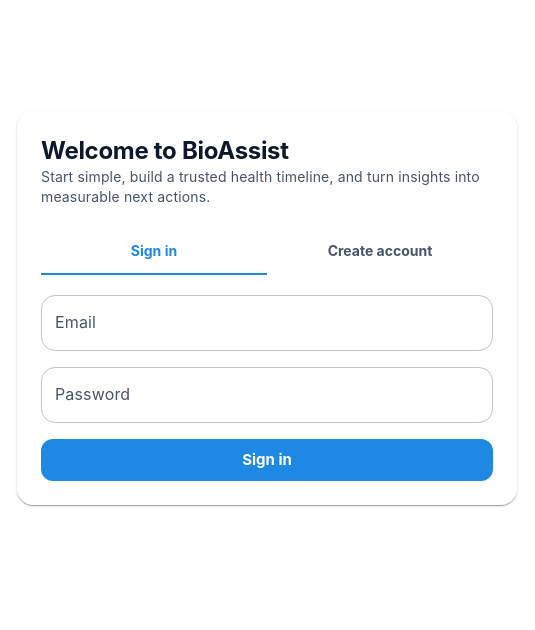
Scenario: LoginPage › shows validation on signup password mismatch
Step 1. Click the tab "Create account" → click(380, 251), box 267,227 -> 493,275
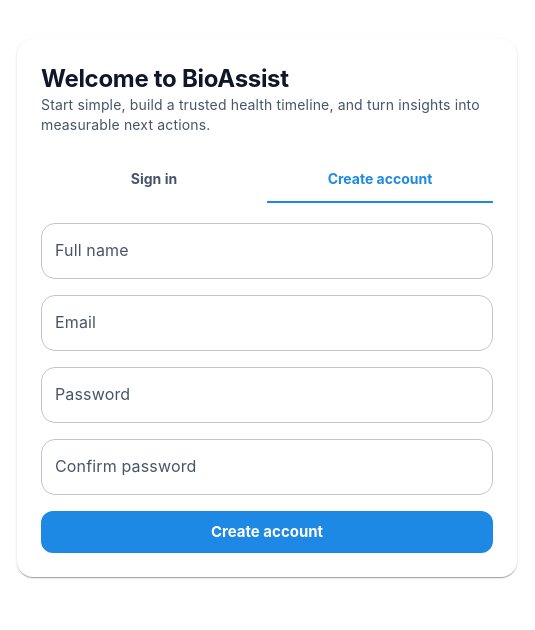
Step 2. Type "Andy" into the field labelled "Full name" → (267, 251), box 41,223 -> 493,279
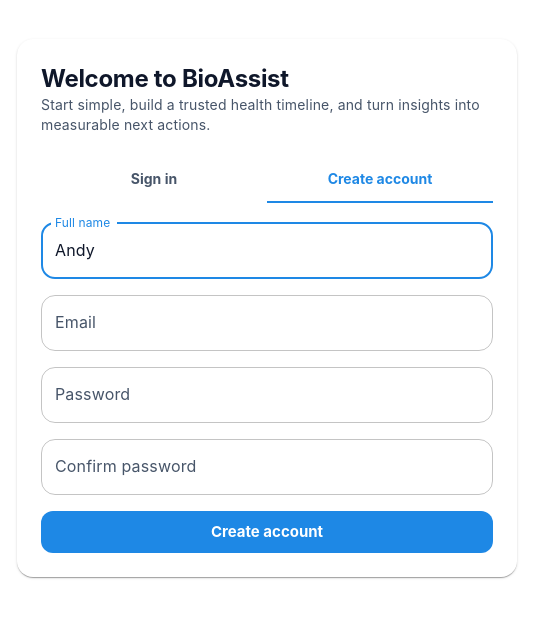
Step 3. Type "andy@example.com" into the field labelled "Email" → (267, 323), box 41,295 -> 493,351
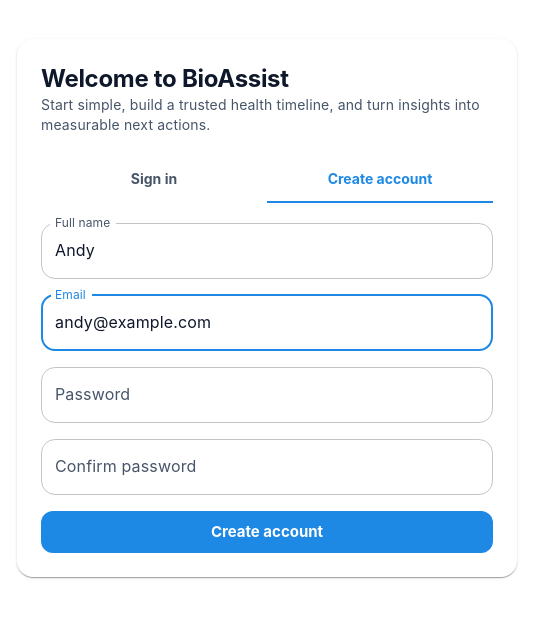
Step 4. Type "password123" into the password field labelled "Password" → (267, 395), box 41,367 -> 493,423
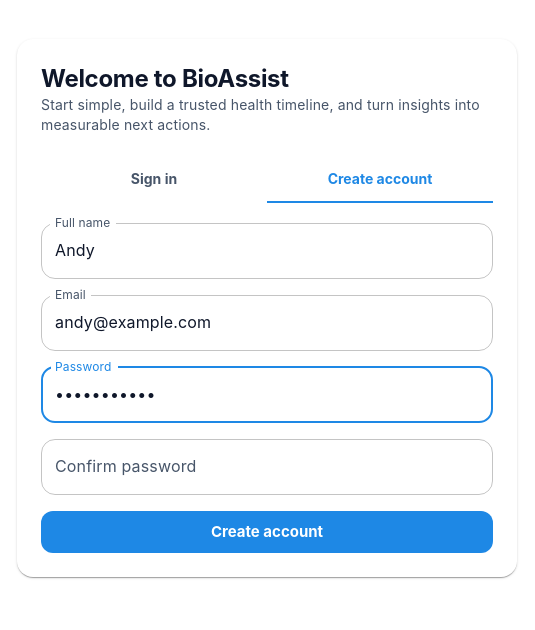
Step 5. Type "password999" into the password field labelled "Confirm password" → (267, 467), box 41,439 -> 493,495
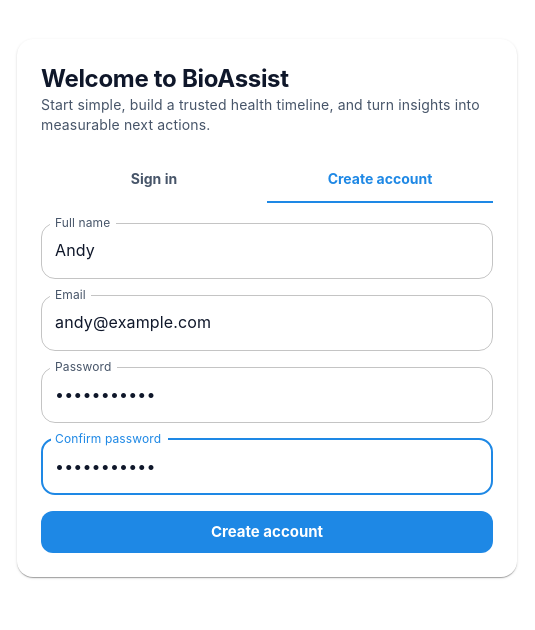
Step 6. Click the button "Create account" → click(267, 532), box 41,511 -> 493,553
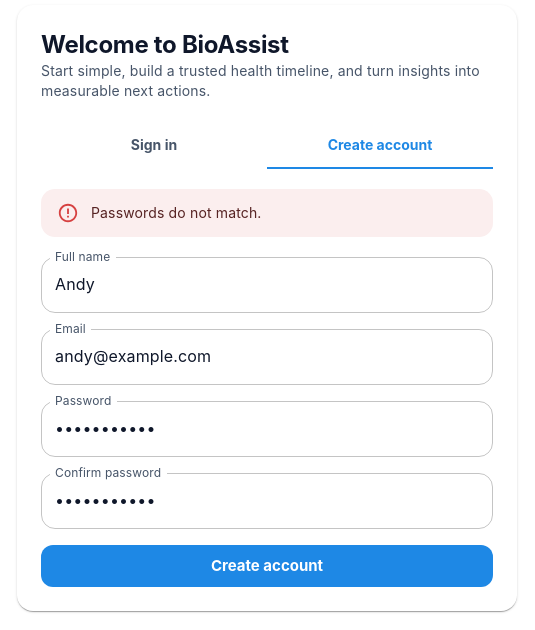
Check: the text "Passwords do not match." is shown, box 91,204 -> 262,221
